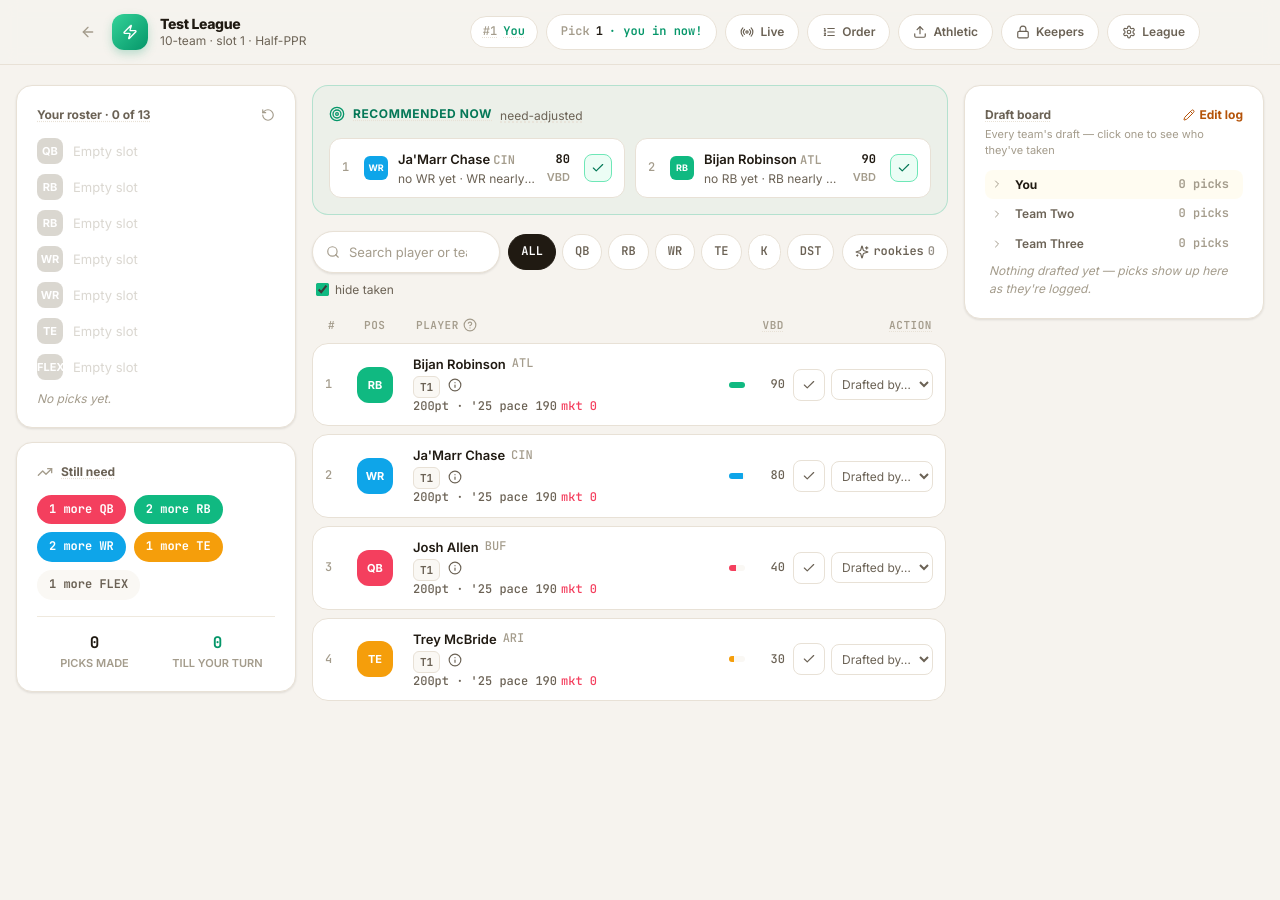
Test case: SnakeRoom player board › attributes a pick to the opponent chosen in the dropdown
This screenshot has width=1280, height=900.
Click the checkbox labelled "hide taken".
click(322, 290)  # box [316,284,329,296]
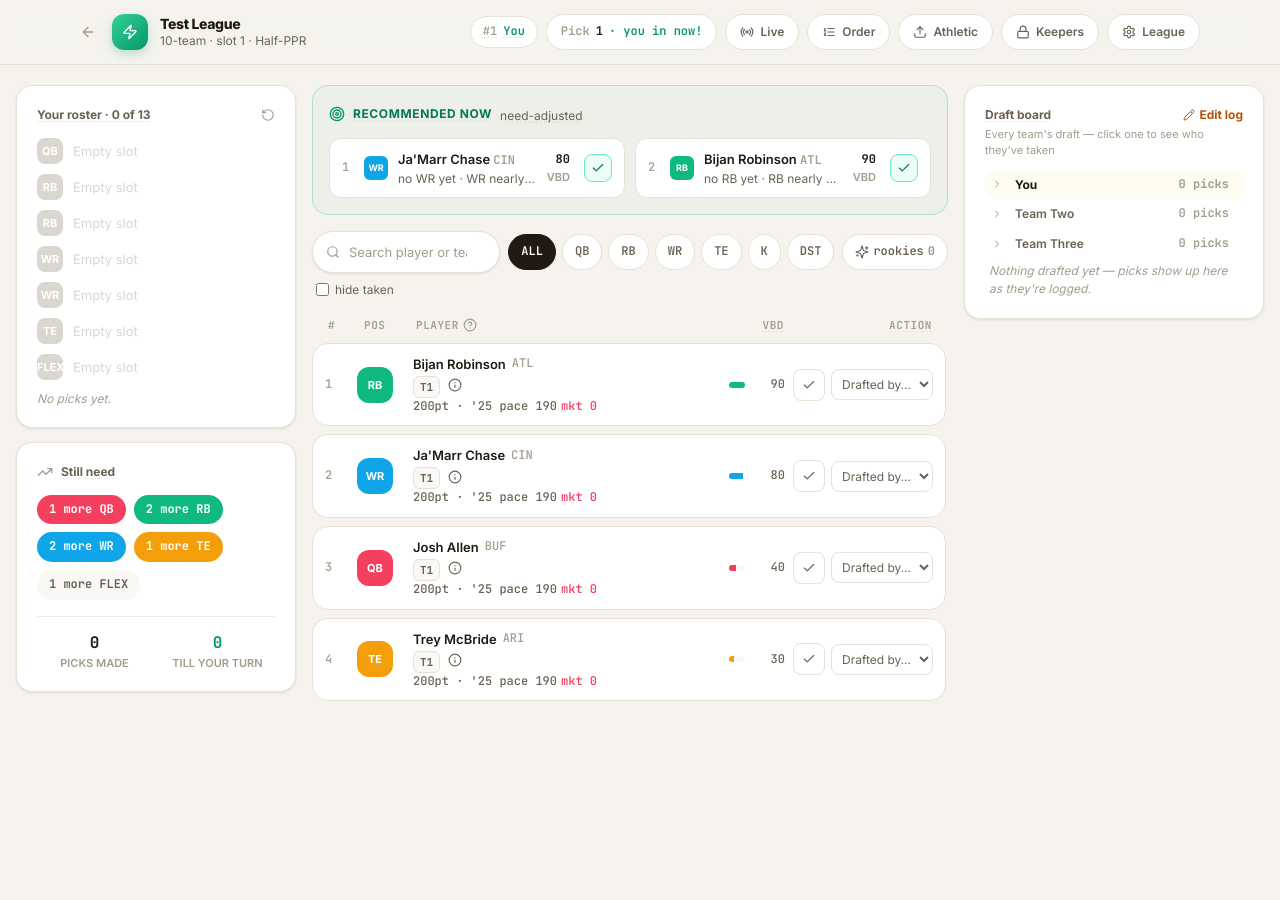
Select "Team Two" in the 2nd dropdown named "Who drafted this player?" at (882, 476), box [831,461,933,492]
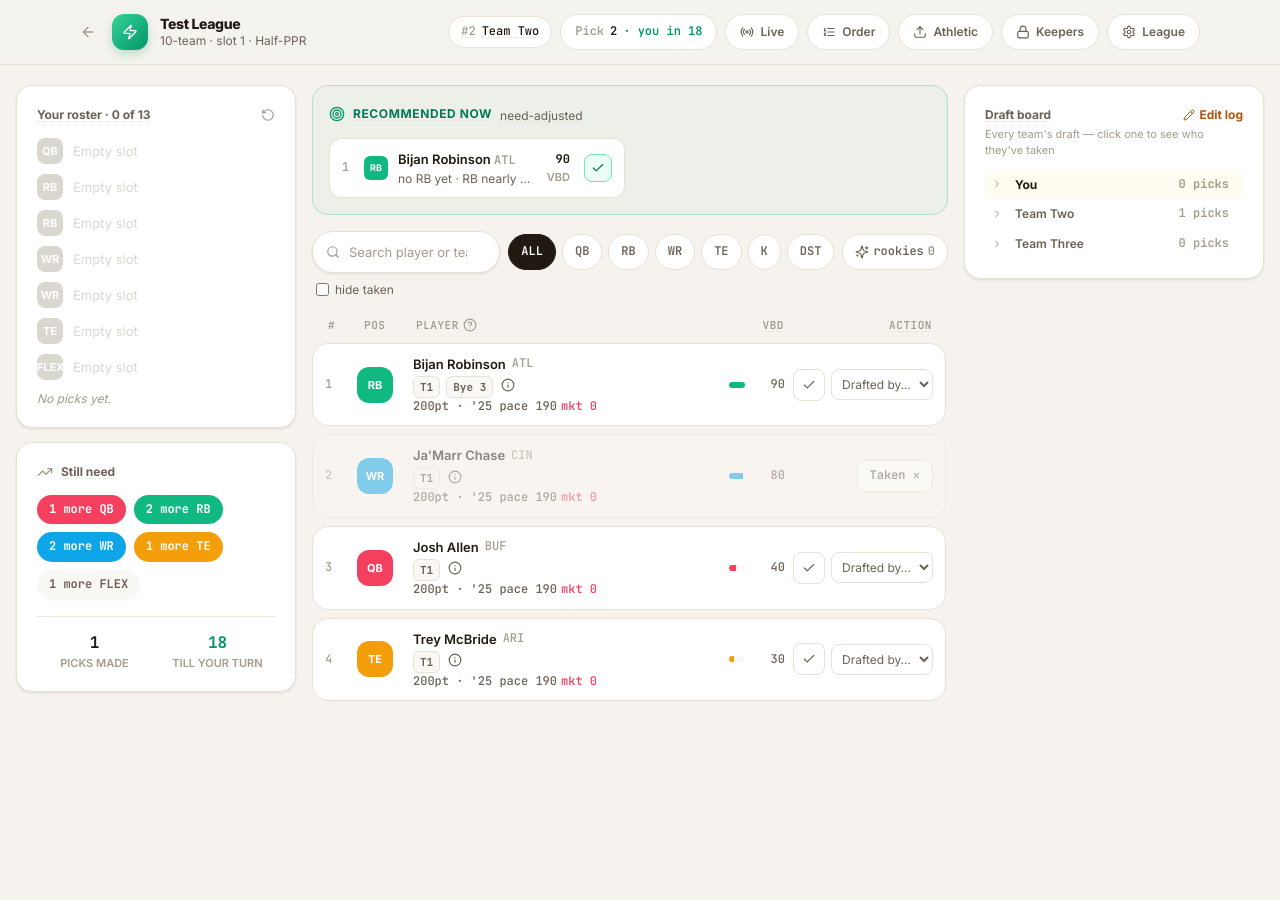
Now the button "Taken ✕" is shown, box [856,460,933,492]
